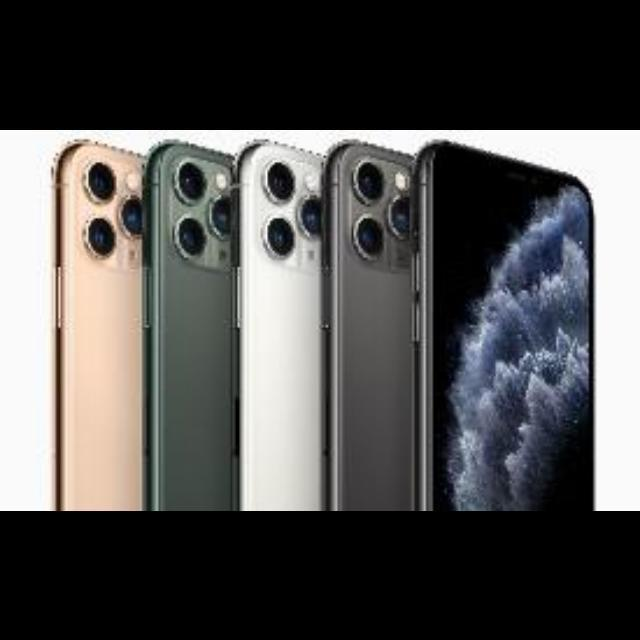phone: (38, 136, 411, 514), (413, 150, 599, 516)
